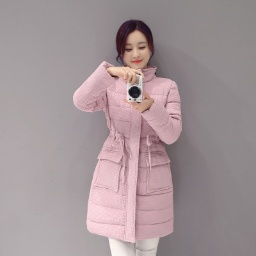face: (106, 12, 168, 83)
